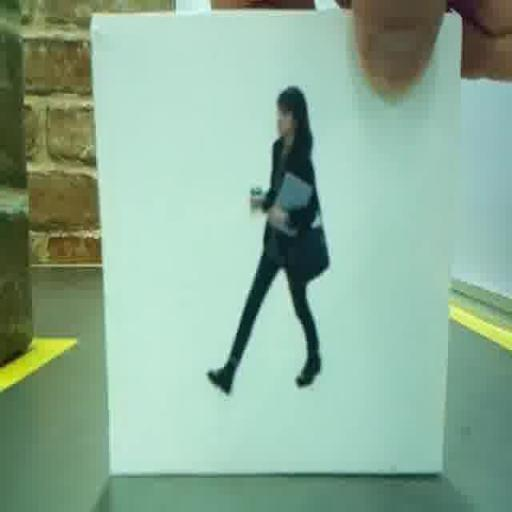human: (207, 86, 329, 393)
